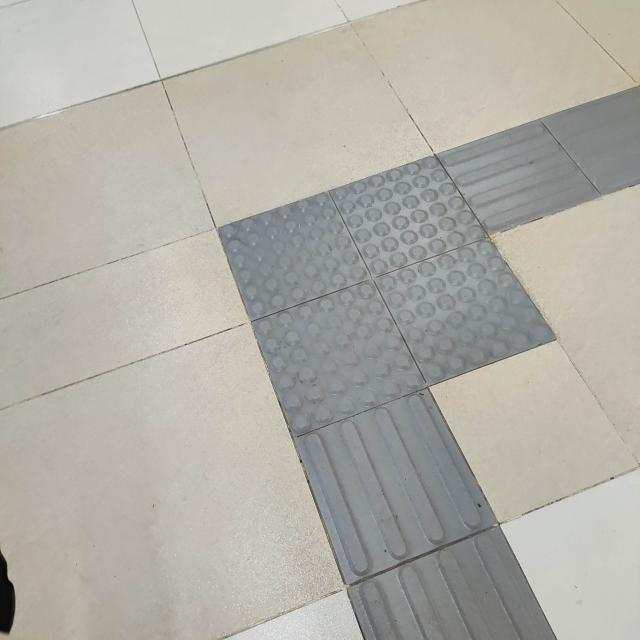kanan: (142, 122, 640, 432)
